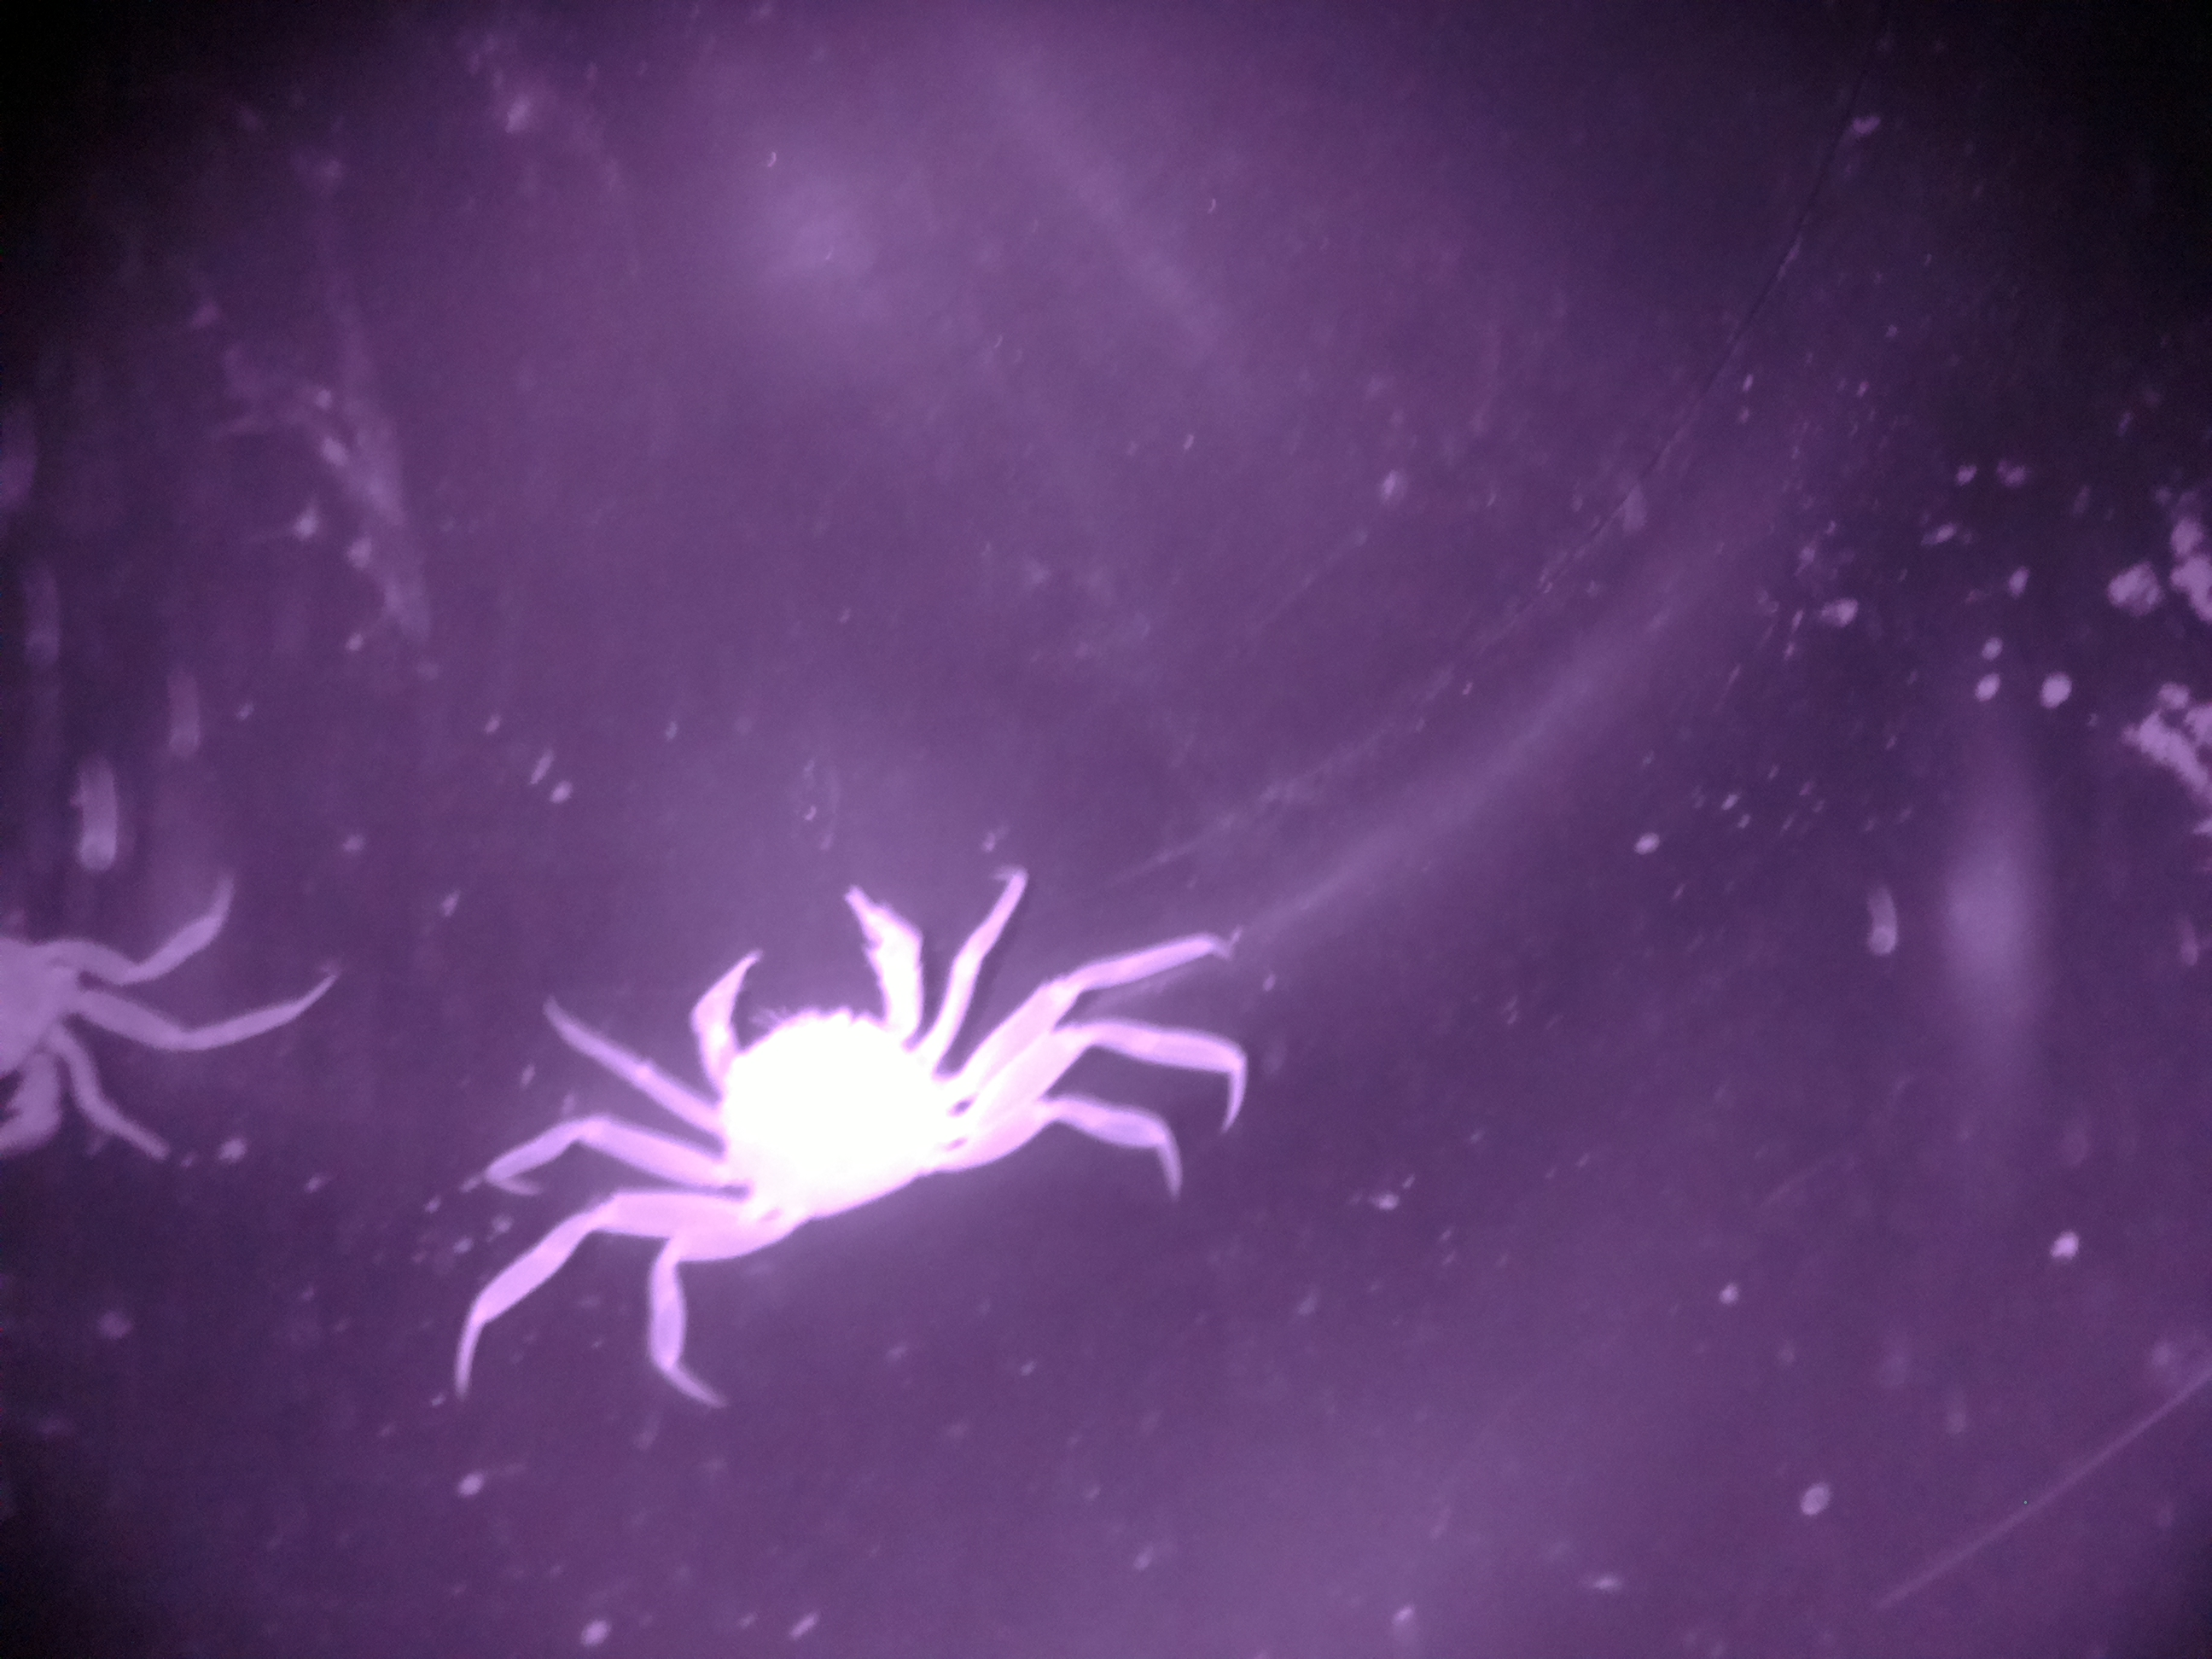Crab: (552, 939, 1080, 1281)
